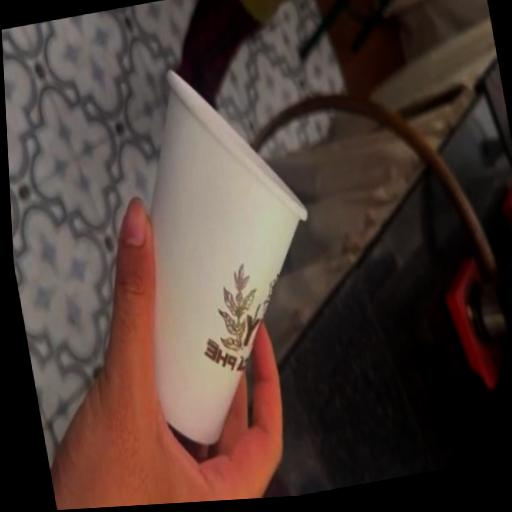ly_giay: (149, 71, 306, 443)
